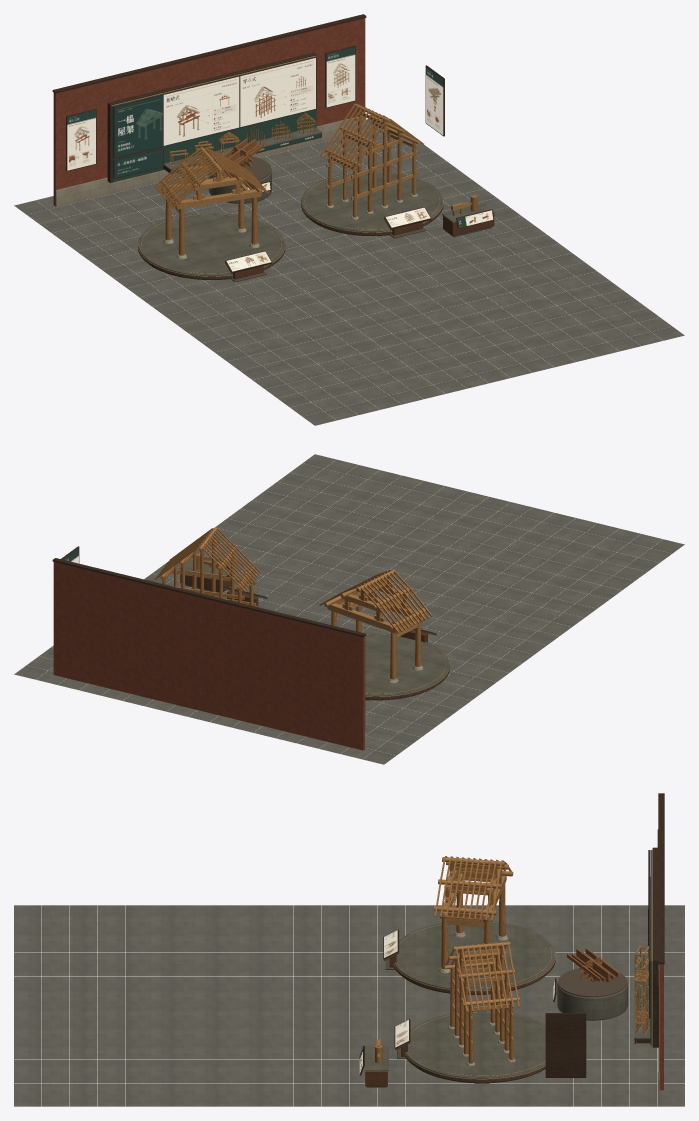
Rendered from gallery.gltf.
3 views of the same model, one above another, from view 1: azimuth 30°, elevation 25°; view 2: azimuth 150°, elevation 25°; view 3: azimuth 270°, elevation 25° (orthographic). The views are drawn at different scales.
Parts seen in each view (by area): view 1: fitout, board-taiwall, board-chuanwall, chuandou-0, board-intro, liangjia-6, chuandou-6, board-post, board-beam, liangjia-0, board-arm, liangjia-1 (+1 smaller); view 2: fitout, liangjia-6, chuandou-6, chuandou-0, liangjia-5, liangjia-1, liangjia-0; view 3: fitout, chuandou-0, liangjia-5, liangjia-6, chuandou-6, liangjia-0, chuandou-5, pingshenke-5-0, chuandou-4, liangjia-1.
Part boxes in pixels (x1,y1,x2,y2): fitout: (14,14,684,425); board-taiwall: (163,76,239,145); board-chuanwall: (240,58,315,126); chuandou-0: (326,108,417,219); board-intro: (114,95,162,157); liangjia-6: (154,147,268,208); chuandou-6: (320,104,423,171); board-post: (326,47,355,107); board-beam: (67,110,95,170); liangjia-0: (163,183,259,259); board-arm: (426,67,443,135); liangjia-1: (161,177,262,213); fitout: (14,454,684,764); liangjia-6: (319,569,432,633); chuandou-6: (154,528,260,592); chuandou-0: (162,534,253,605); liangjia-5: (324,569,427,631); liangjia-1: (327,596,425,637); liangjia-0: (331,605,423,683); fitout: (14,793,684,1106); chuandou-0: (448,946,515,1065); liangjia-5: (434,857,513,921); liangjia-6: (434,856,511,921); chuandou-6: (444,941,519,1011); liangjia-0: (439,884,507,976); chuandou-5: (444,942,519,1005); pingshenke-5-0: (567,948,619,981); chuandou-4: (449,948,514,1010); liangjia-1: (440,873,506,927).
Bounding box in the file's own units: 19.59 × 5.82 × 27.59.
25 materials, 22 textured.
